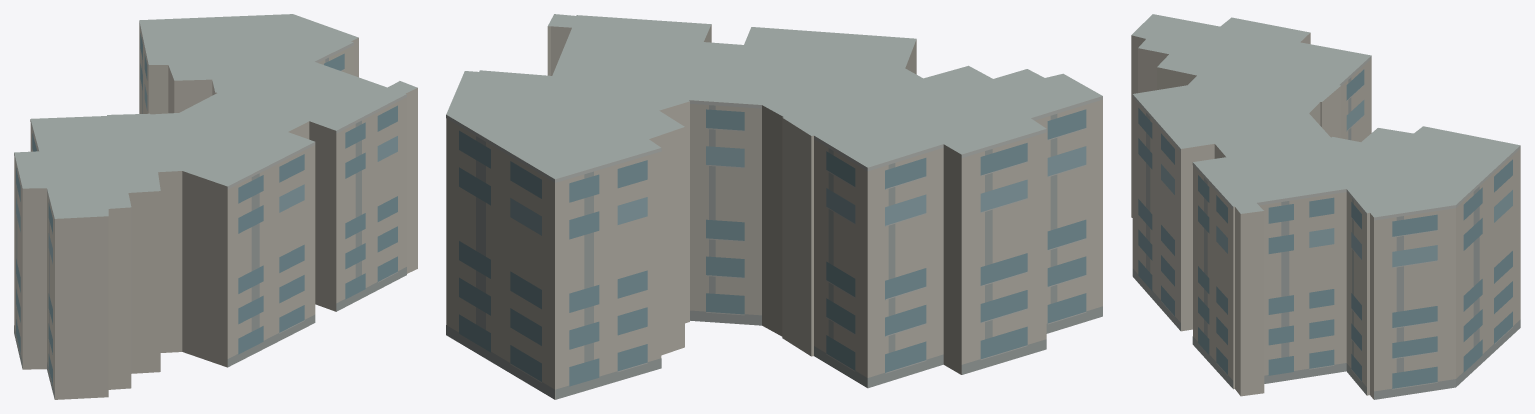
Rendered from survey-upis-32838995.glb.
The picture shows the model from 3 angles, left to right: view 1: azimuth 30°, elevation 25°; view 2: azimuth 150°, elevation 25°; view 3: azimuth 270°, elevation 25°; orthographic projection. The views are drawn at different scales.
Parts seen in each view (by area): view 1: survey-upis-32838995.tmp; view 2: survey-upis-32838995.tmp; view 3: survey-upis-32838995.tmp.
Boxes of the visible parts, x1,y1,x2,y2 form: survey-upis-32838995.tmp: (14,14,417,399); survey-upis-32838995.tmp: (446,14,1102,399); survey-upis-32838995.tmp: (1131,14,1520,399).
Bounding box in the file's own units: 35.18 × 14.7 × 28.44.
